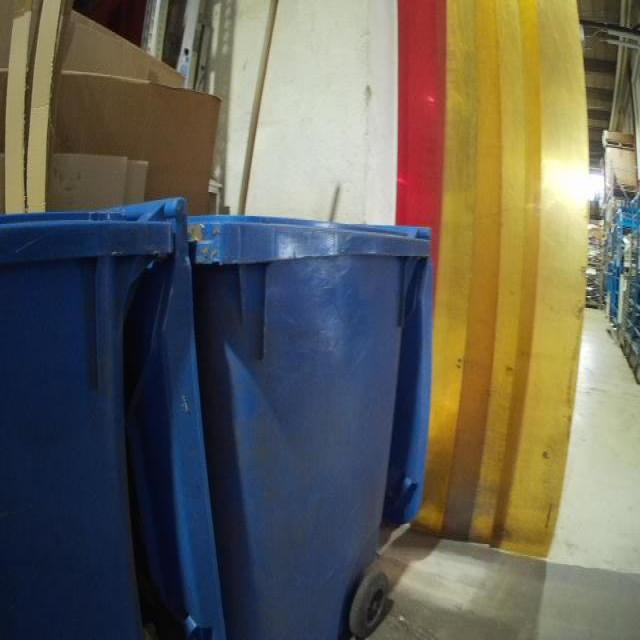pallet: (601, 138, 635, 151)
stillage: (584, 213, 610, 270), (583, 263, 610, 316)
